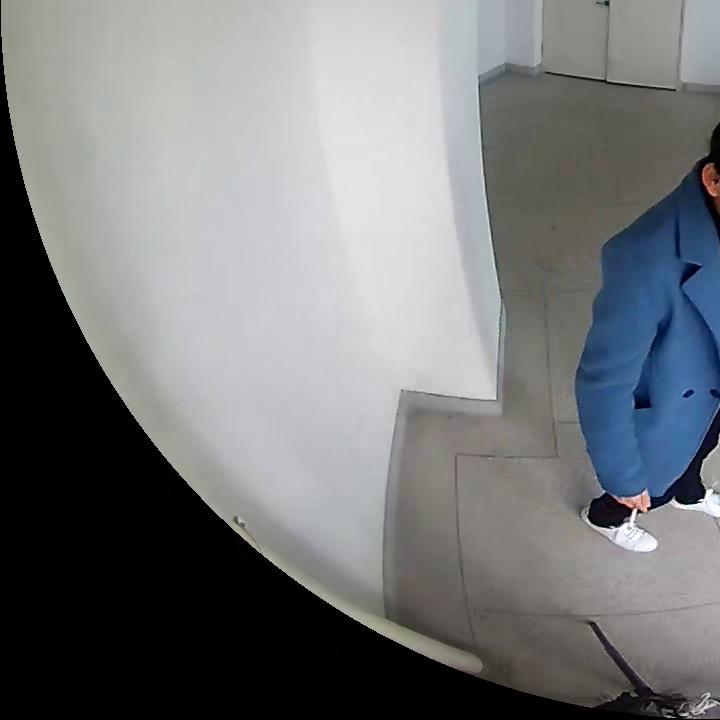handsmoke: (620, 495, 652, 531)
